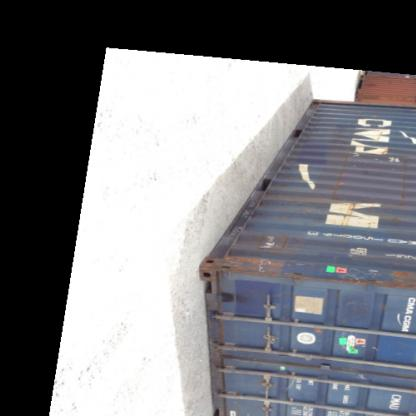Damage: (323, 259, 415, 300), (218, 254, 314, 280), (393, 148, 410, 212), (210, 286, 250, 310), (250, 230, 292, 252), (334, 150, 352, 198), (328, 302, 367, 324), (331, 362, 370, 384), (294, 112, 316, 148), (336, 200, 360, 226), (274, 154, 298, 180), (248, 194, 266, 226), (372, 124, 390, 150), (382, 212, 410, 226), (367, 342, 385, 354)
